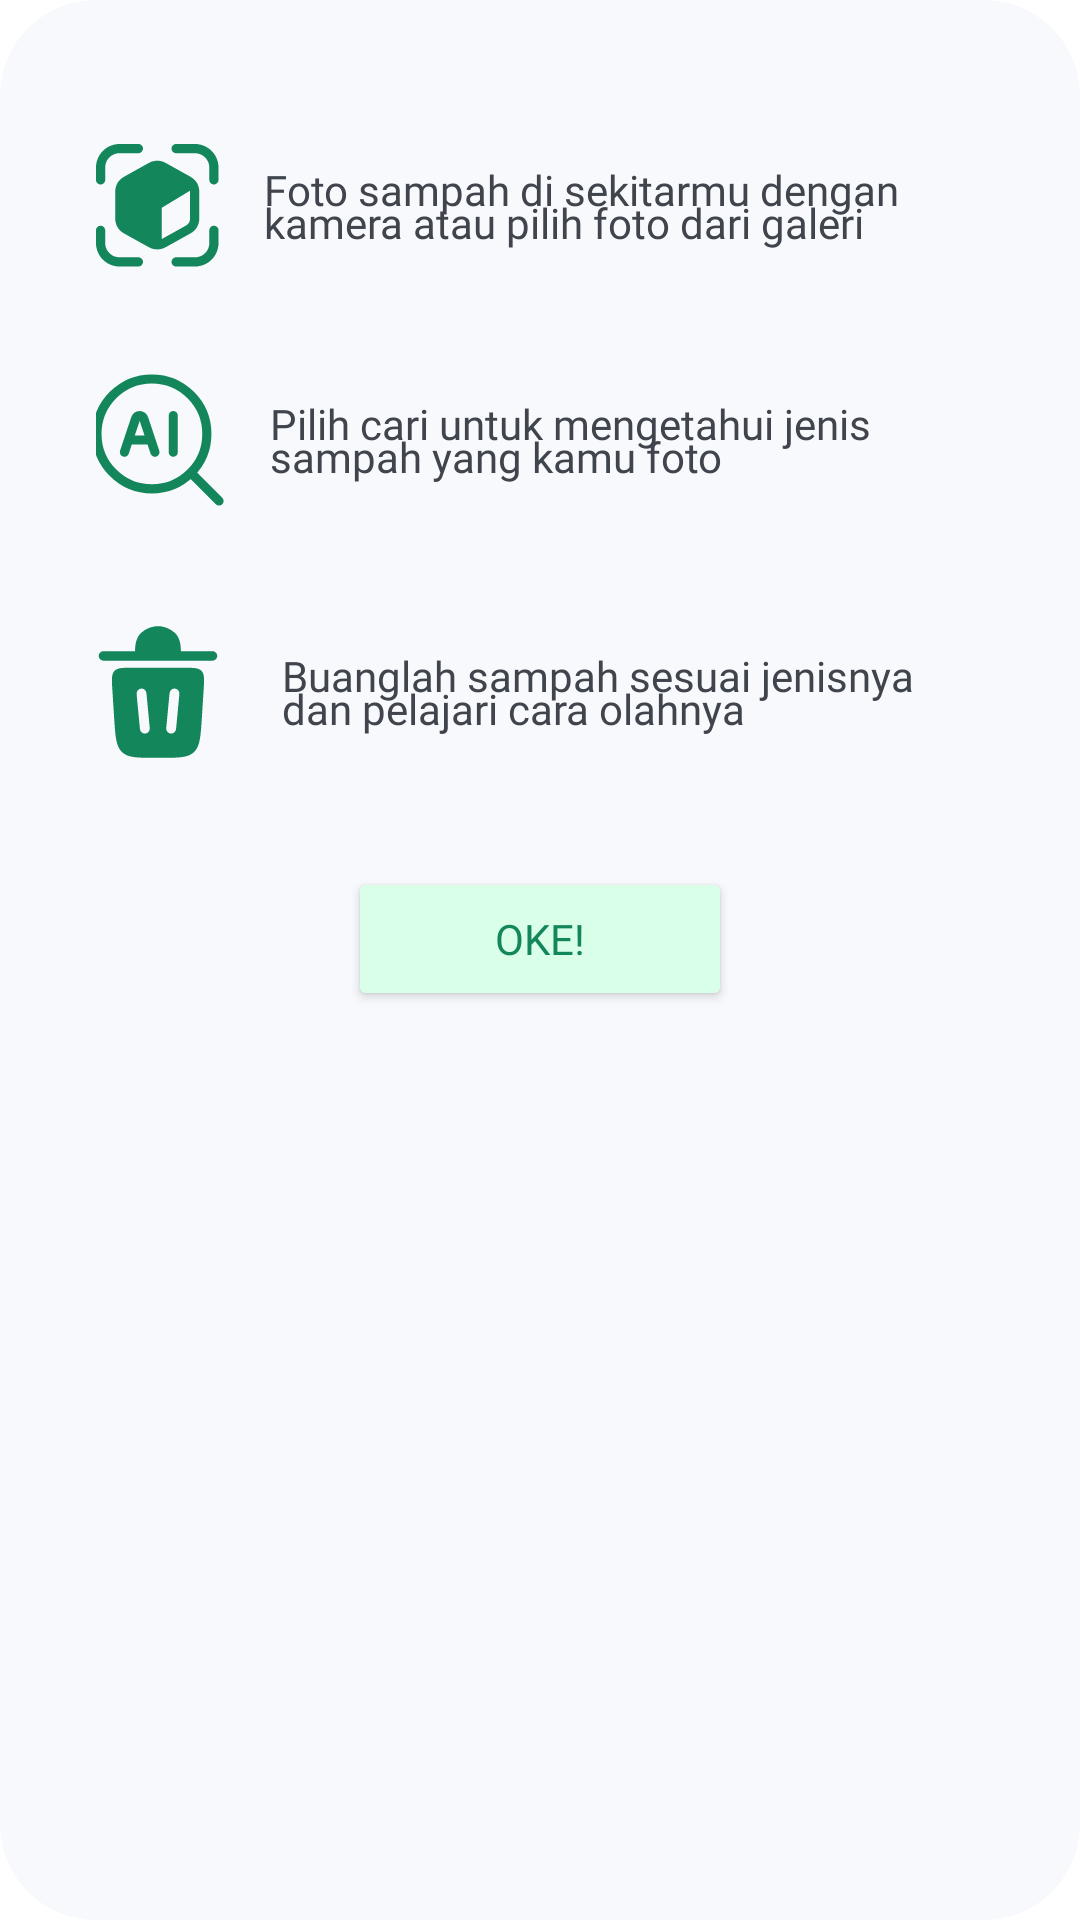

Icon click points for this 1080 × 1920 phone screenshot, format (x,y):
ai search: (160,440)
photo object: (157,205)
trash bin: (158,692)
